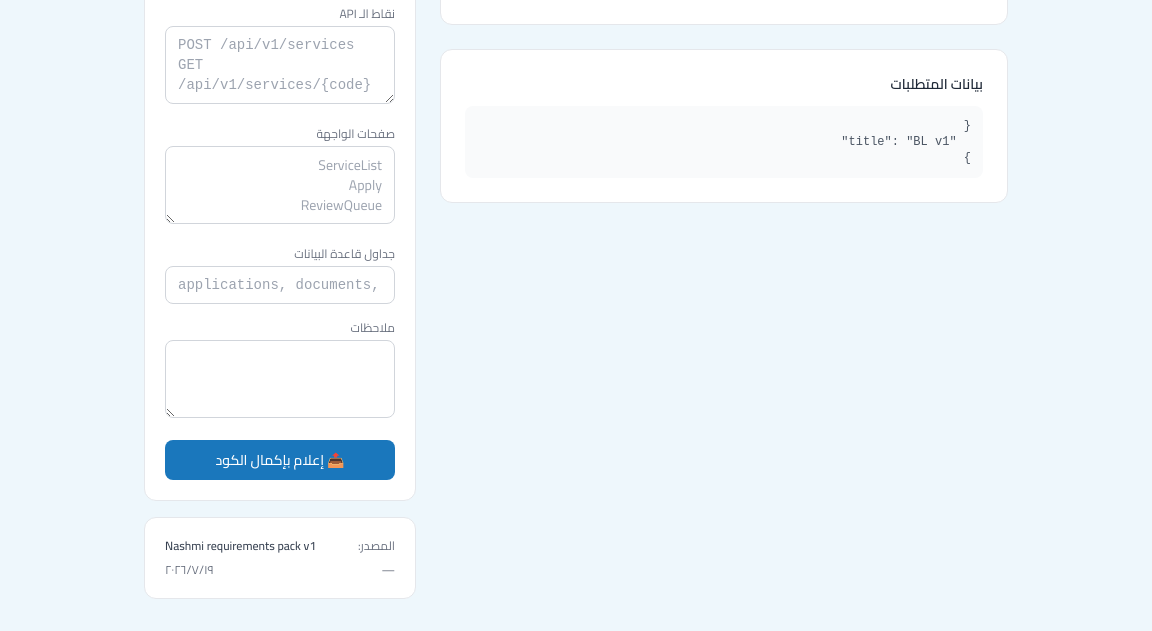
Test: IntegrationCycleDetail — lifecycle + notify-done › shows the Arabic error banner when notify fails
(page scrolled)
What coordinates should you click on to do the following:
click the button "📤 إعلام بإكمال الكود"
I would click on:
 (280, 460)
Its box is [165,440,395,480].
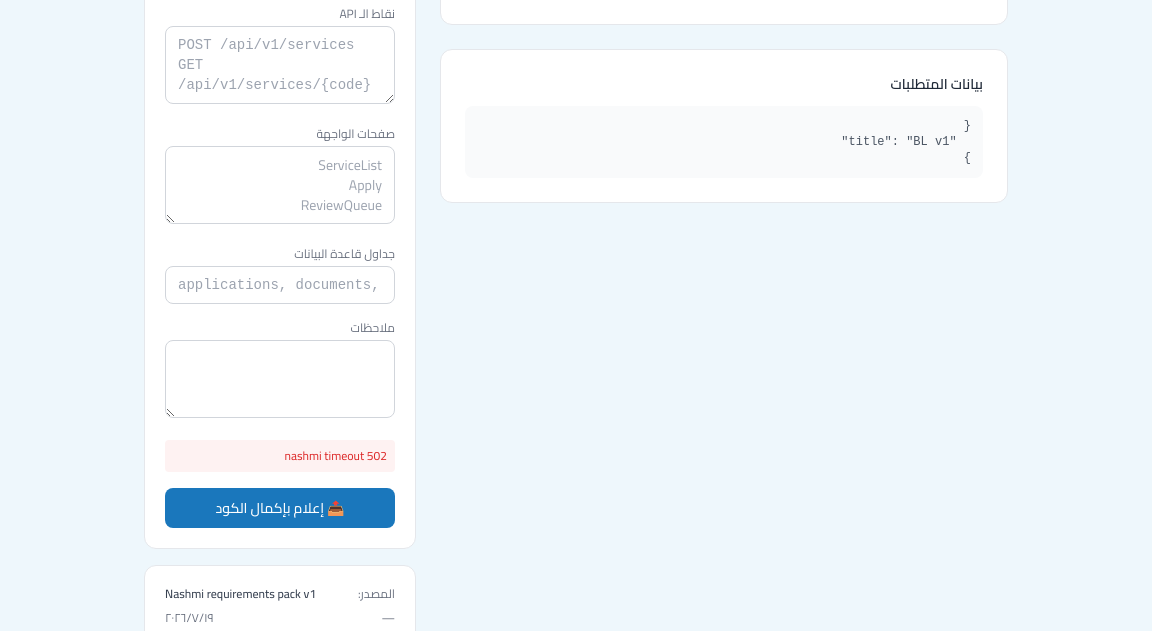
Now the text "502 nashmi timeout" is shown, box [165,440,395,472]
